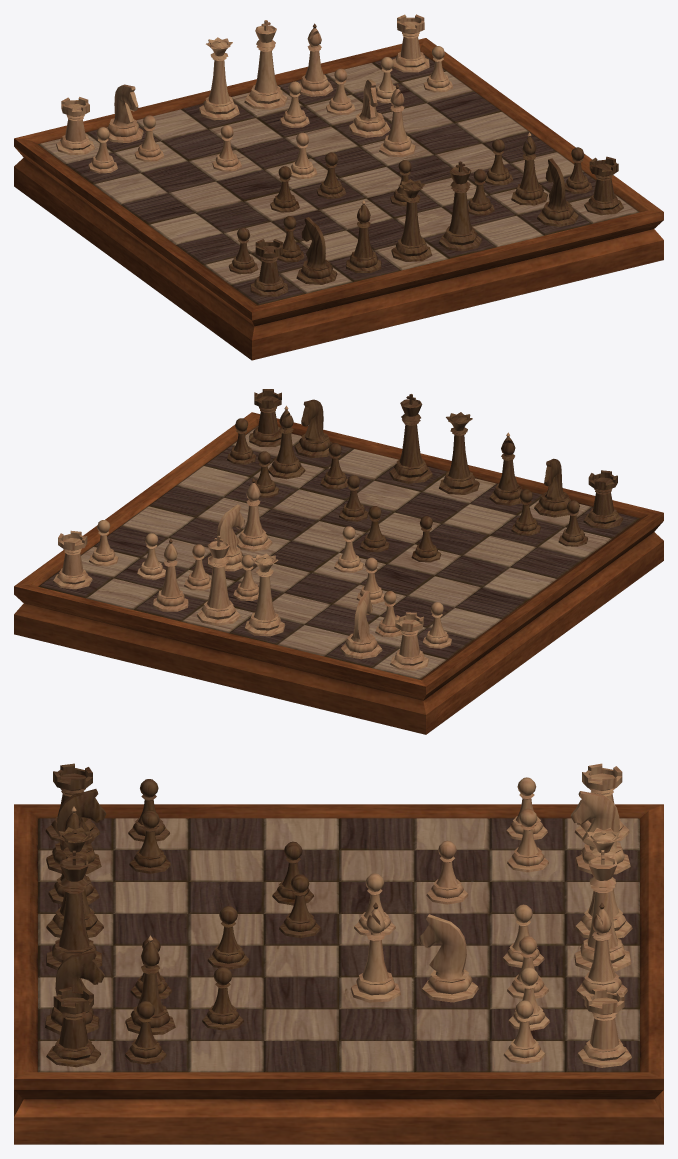
Rendered from chess.glb.
3 renders of one model, top to bottom at view 1: azimuth 30°, elevation 25°; view 2: azimuth 150°, elevation 25°; view 3: azimuth 270°, elevation 25°, orthographic. The views are drawn at different scales.
Visible parts, largest first — view 1: Board, White, Black, Pawn (×2), Rook (×2), Knight (×2), Bishop (×2), King (×2), Queen (×2); view 2: Board, White, Black, Pawn (×2), Rook (×2), Knight (×2), Bishop (×2), King (×2), Queen (×2); view 3: Board, White, Black, Pawn (×2), Knight (×2), Rook (×2), Bishop (×2), King (×2), Queen (×2).
Part boxes in pixels (left/top/right/bottom): Board: left=14, top=38, right=663, bottom=360; White: left=38, top=63, right=639, bottom=293; Black: left=66, top=54, right=596, bottom=305; Pawn (×2): left=88, top=46, right=592, bottom=274; Rook (×2): left=56, top=14, right=623, bottom=296; Knight (×2): left=106, top=79, right=578, bottom=284; Bishop (×2): left=300, top=23, right=547, bottom=272; King (×2): left=244, top=20, right=482, bottom=251; Queen (×2): left=199, top=37, right=432, bottom=261; Board: left=14, top=412, right=663, bottom=734; White: left=80, top=426, right=611, bottom=679; Black: left=38, top=442, right=639, bottom=667; Pawn (×2): left=89, top=418, right=587, bottom=648; Rook (×2): left=53, top=389, right=623, bottom=670; Knight (×2): left=207, top=399, right=570, bottom=659; Bishop (×2): left=152, top=405, right=522, bottom=611; King (×2): left=196, top=394, right=432, bottom=625; Queen (×2): left=244, top=412, right=479, bottom=636; Board: left=14, top=804, right=663, bottom=1144; White: left=38, top=818, right=639, bottom=1072; Black: left=38, top=818, right=639, bottom=1072; Pawn (×2): left=124, top=777, right=549, bottom=1064; Knight (×2): left=45, top=789, right=630, bottom=1034; Rook (×2): left=45, top=763, right=631, bottom=1067; Bishop (×2): left=48, top=806, right=627, bottom=1034; King (×2): left=46, top=850, right=631, bottom=971; Queen (×2): left=46, top=827, right=632, bottom=938.
Size of the model in its own units: 43.18 by 12.66 by 43.18.
1 material, 1 textured.
